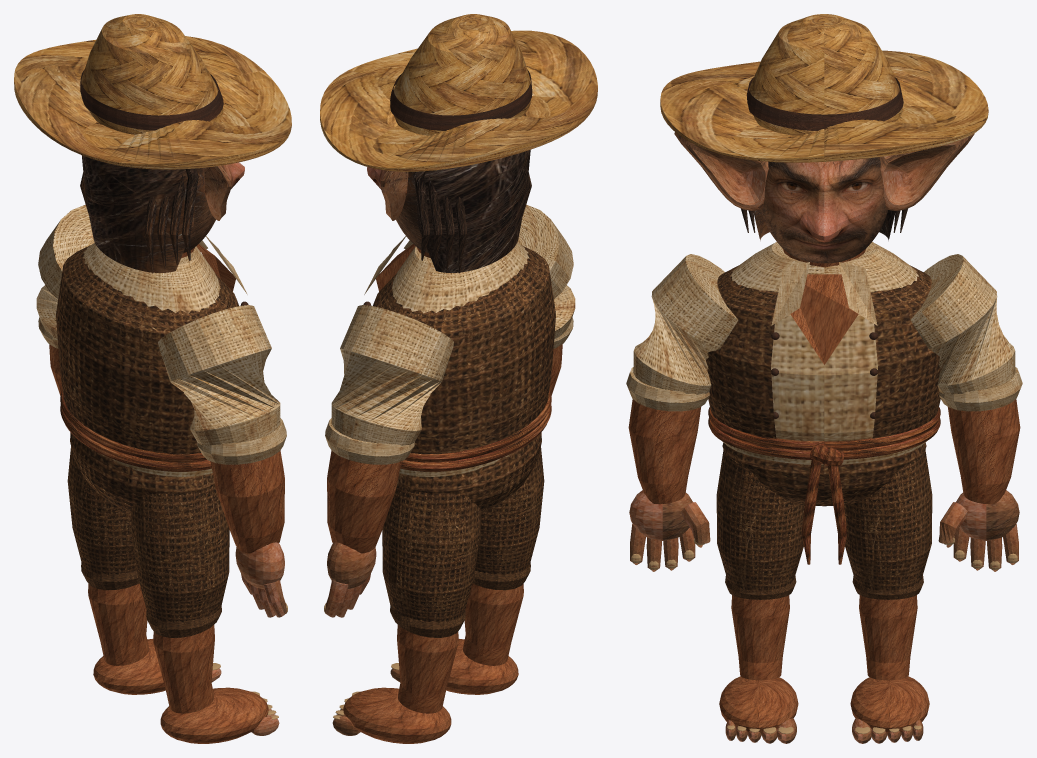
Rendered from pombero.obj.
3 renders of one model, left to right at view 1: azimuth 30°, elevation 25°; view 2: azimuth 150°, elevation 25°; view 3: azimuth 270°, elevation 25°, orthographic. The views are drawn at different scales.
Bounding box in the file's own units: 10.63 × 32.01 × 16.83.
